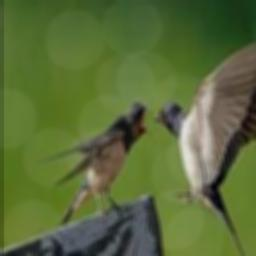Swallow: (154, 39, 256, 256), (40, 100, 150, 227)
